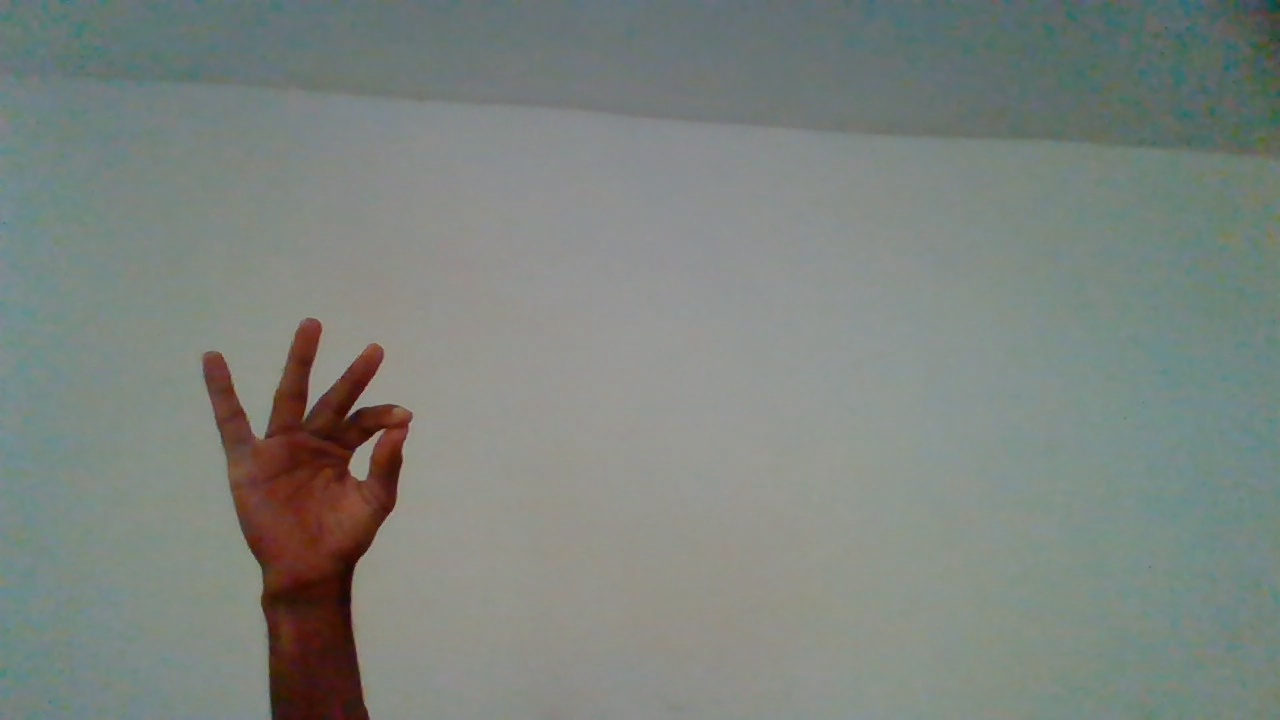le: (188, 316, 422, 700)
